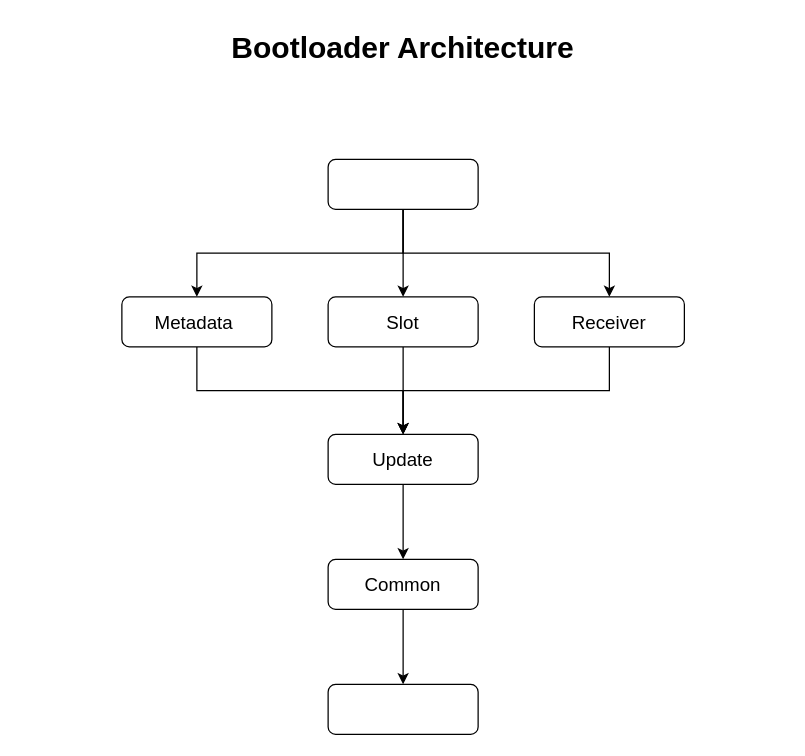
Image size: 805x756. Some labels were removed from this diagram. The box of each missing label's shape, as (x1, y1, x2, y2) in pixels:
Boot: (327, 158, 478, 209)
Drivers: (327, 683, 478, 734)
